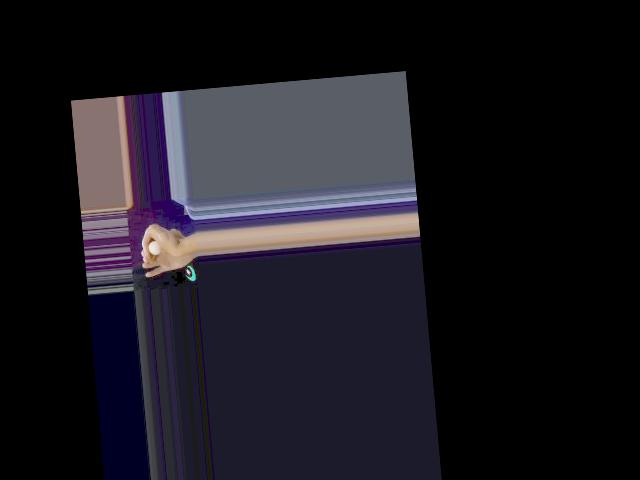egg: (147, 239, 160, 255)
